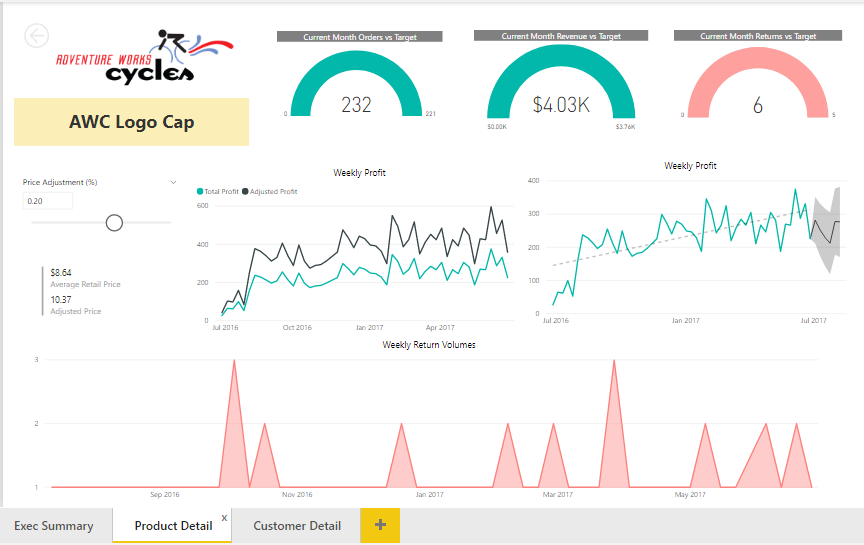

The page's visual inventory and layout, read from the dashboard file:
{"tool":"powerbi","page":{"name":"Product Detail","canvas":[1280,720],"ordinal":1},"visuals":[{"type":"image","box":[22.1,6.3,379.5,92.6],"z":1},{"type":"lineChart","fields":{"Y":["AW_Sales.Total Profit"],"Category":["AW_Calendar_Lookup.Start of Week"]},"box":[772.8,204.4,494.1,257.3],"z":2},{"type":"lineChart","fields":{"Y":["AW_Sales.Total Profit","AW_Sales.Adjusted Profit"],"Category":["AW_Calendar_Lookup.Start of Week"]},"box":[281.8,215.4,494.1,257.3],"z":2},{"type":"stackedAreaChart","fields":{"Category":["AW_Calendar_Lookup.Start of Week"],"Y":["AW-Returns.TotalReturns"]},"box":[36.1,470.6,1193.7,249.4],"z":2},{"type":"gauge","fields":{"Y":["AW_Sales.Total Revenue"],"MaxValue":["AW_Sales.Revenue Target"]},"box":[699.1,12.5,258.8,156.9],"z":4},{"type":"gauge","fields":{"Y":["AW-Returns.TotalReturns"],"MaxValue":["AW-Returns.Prev Month Returns"]},"box":[996.6,12.5,250.5,144.3],"z":4},{"type":"gauge","fields":{"Y":["AW_Sales.Total Orders"],"MaxValue":["AW_Sales.Order Target"]},"box":[406.3,13.6,246.3,144.3],"z":4},{"type":"card","fields":{"Values":["Min(AW_Product_Lookup.ProductName)"]},"box":[16.3,113.2,348.9,71.1],"z":7},{"type":"basicShape","box":[0,0,100,40],"z":8},{"type":"slicer","fields":{"Values":["Price Adjustment (%).Price Adjustment (%)"]},"box":[15.7,224.3,254.1,108.2],"z":9},{"type":"multiRowCard","fields":{"Values":["AW_Product_Lookup.Average Retail Price","AW_Product_Lookup.Adjusted Price"]},"box":[51.8,357.6,219.6,91.5],"z":10}]}

Visuals, with their boxes on the page's 1280x720 design canvas (x1, y1, x2, y2). These are canvas units, not pixel positions in the 864x545 screenshot, which may show the page scaled, cropped or inside an application window:
image: [x1=22, y1=6, x2=402, y2=99]
lineChart - AW_Sales.Total Profit x AW_Calendar_Lookup.Start of Week: [x1=773, y1=204, x2=1267, y2=462]
lineChart - AW_Sales.Total Profit x AW_Sales.Adjusted Profit: [x1=282, y1=215, x2=776, y2=473]
stackedAreaChart - AW_Calendar_Lookup.Start of Week x AW-Returns.TotalReturns: [x1=36, y1=471, x2=1230, y2=720]
gauge - AW_Sales.Total Revenue x AW_Sales.Revenue Target: [x1=699, y1=12, x2=958, y2=169]
gauge - AW-Returns.TotalReturns x AW-Returns.Prev Month Returns: [x1=997, y1=12, x2=1247, y2=157]
gauge - AW_Sales.Total Orders x AW_Sales.Order Target: [x1=406, y1=14, x2=653, y2=158]
card - Min(AW_Product_Lookup.ProductName): [x1=16, y1=113, x2=365, y2=184]
basicShape: [x1=0, y1=0, x2=100, y2=40]
slicer - Price Adjustment (%).Price Adjustment (%): [x1=16, y1=224, x2=270, y2=332]
multiRowCard - AW_Product_Lookup.Average Retail Price x AW_Product_Lookup.Adjusted Price: [x1=52, y1=358, x2=271, y2=449]
